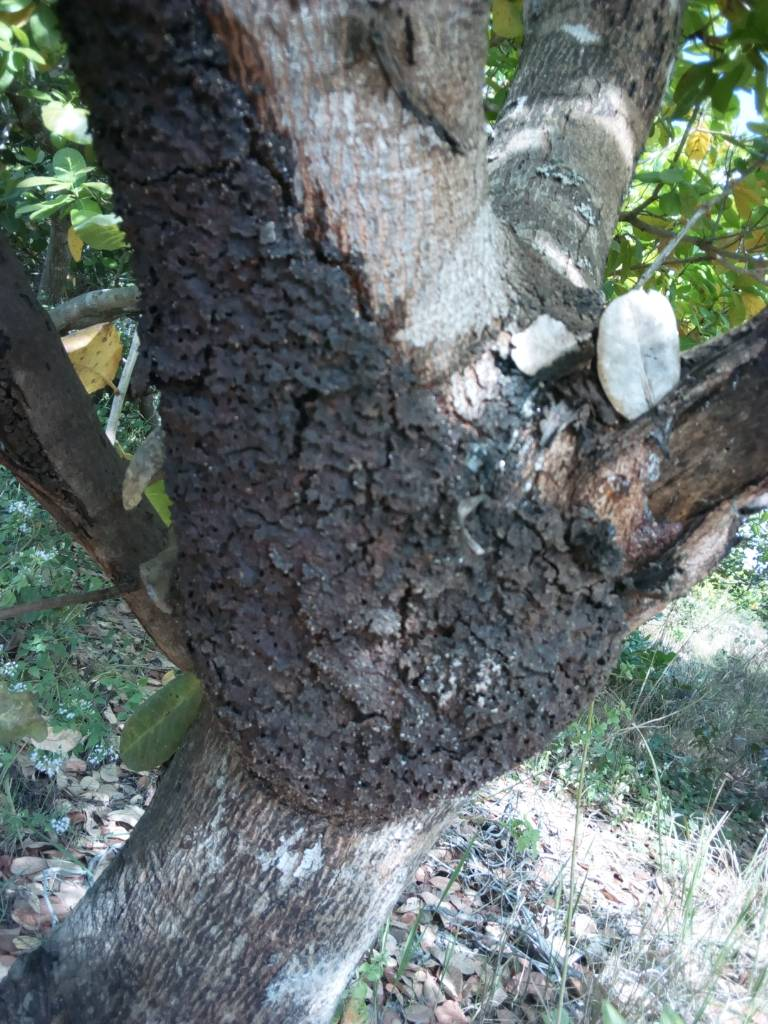Termites: (150, 71, 613, 816)
